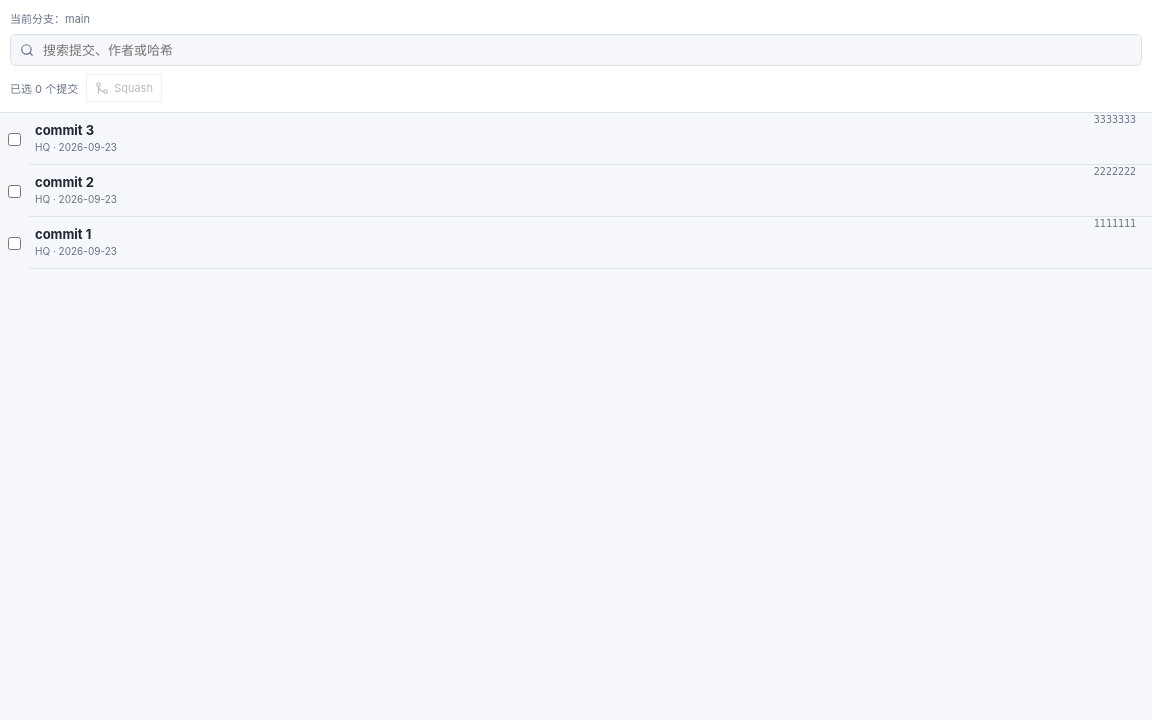
Test: history squash › keeps inputs on stale-head failure and opens the conflict workbench for a paused rebase
The width and height of the screenshot is (1152, 720).
Click the checkbox named "选择提交 3333333" at x=14, y=139, box [8,132,21,146]
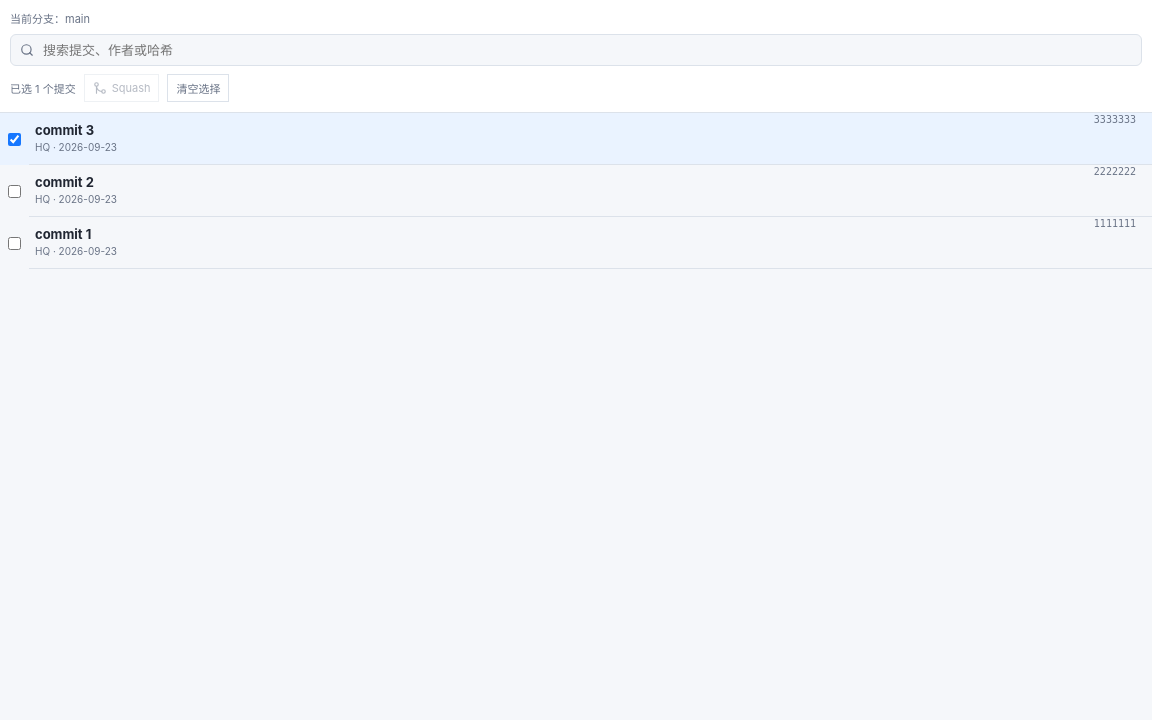
Click the checkbox named "选择提交 1111111" at x=14, y=243, box [8,236,21,250]
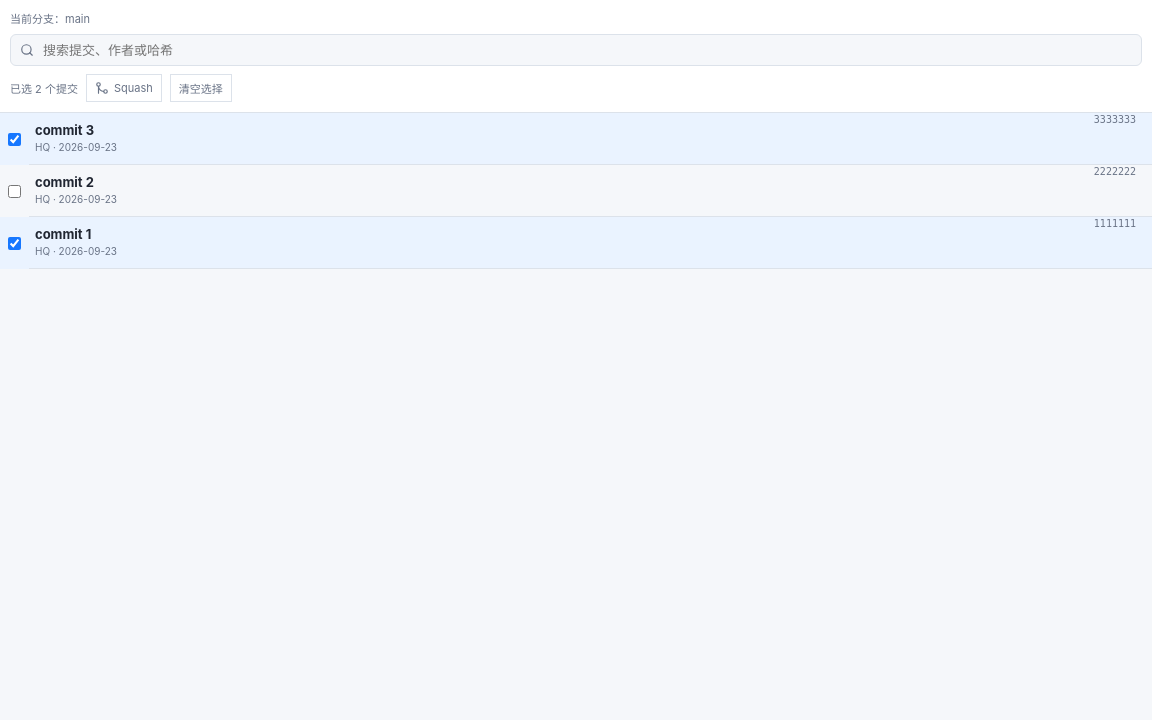
Click the button with aria-label "合并所选提交" at x=124, y=88, box [86,74,162,102]
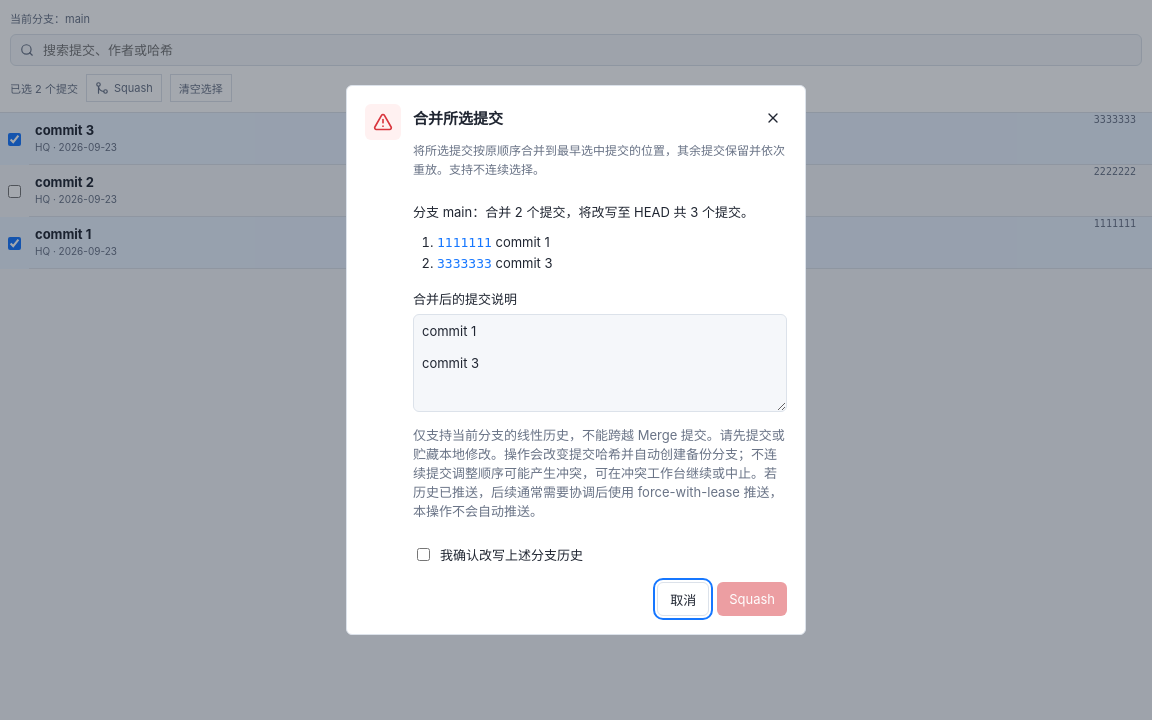
Click the checkbox labelled "我确认改写上述分支历史" at x=424, y=555, box [417,548,430,561]
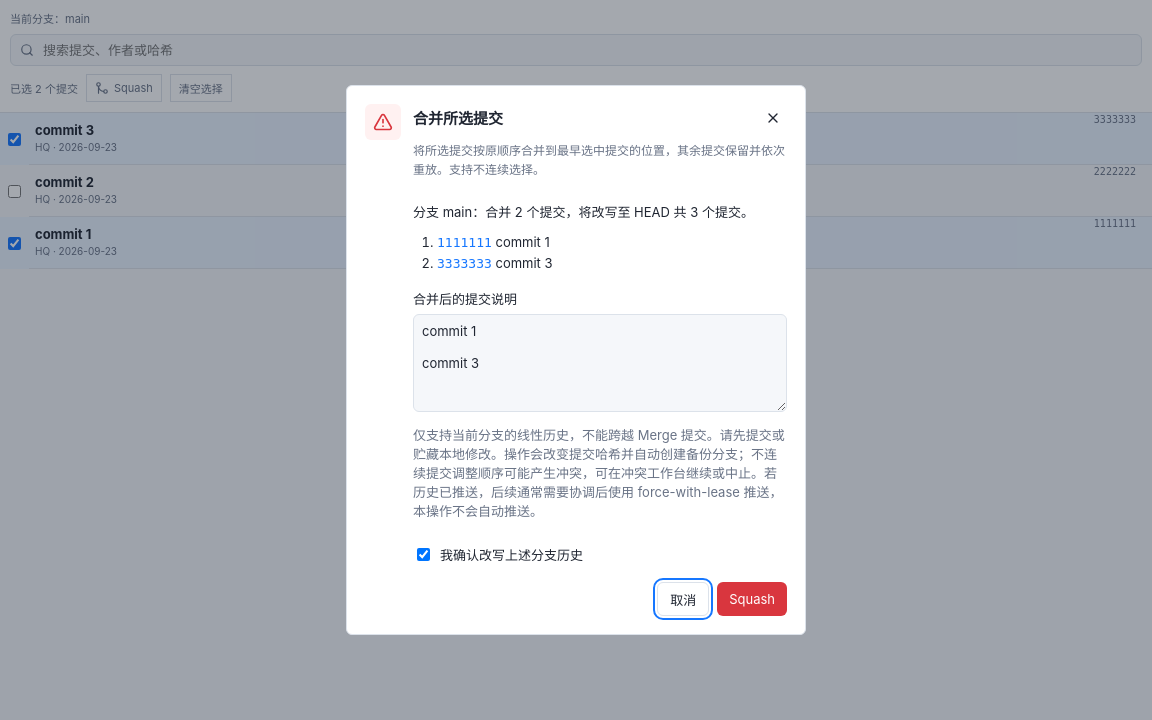
Click the button with aria-label "Squash" at x=752, y=599, box [717,582,787,616]
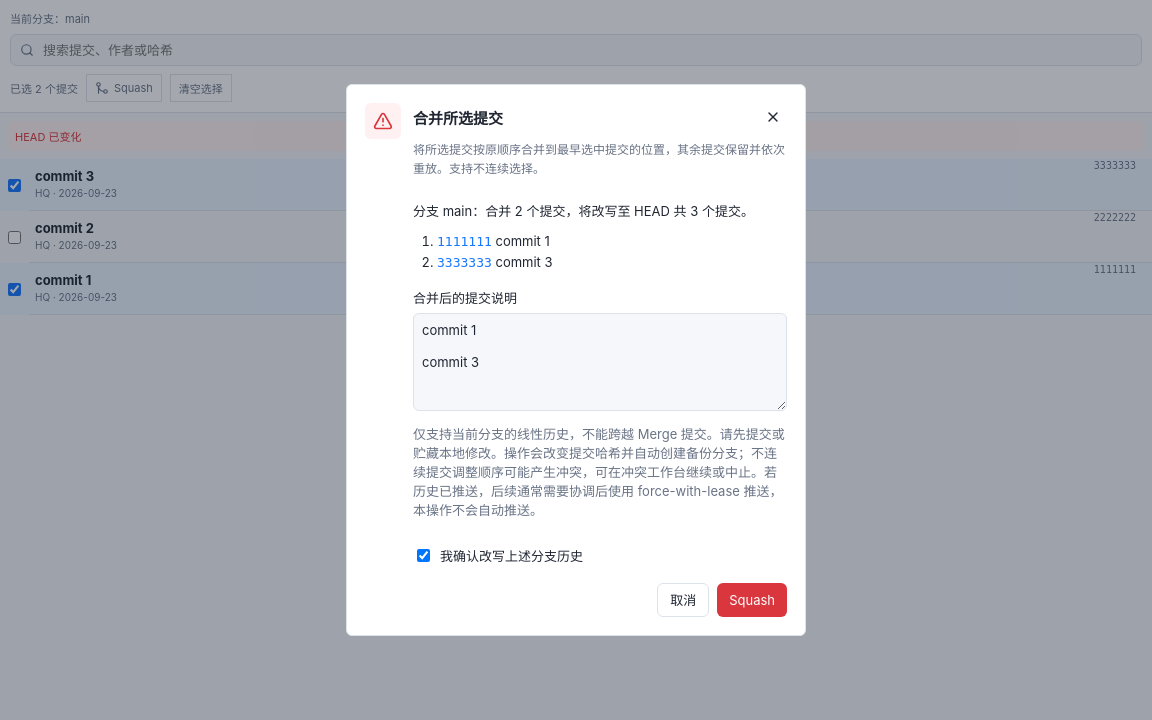
Click the button with aria-label "Squash" at x=752, y=600, box [717,583,787,617]
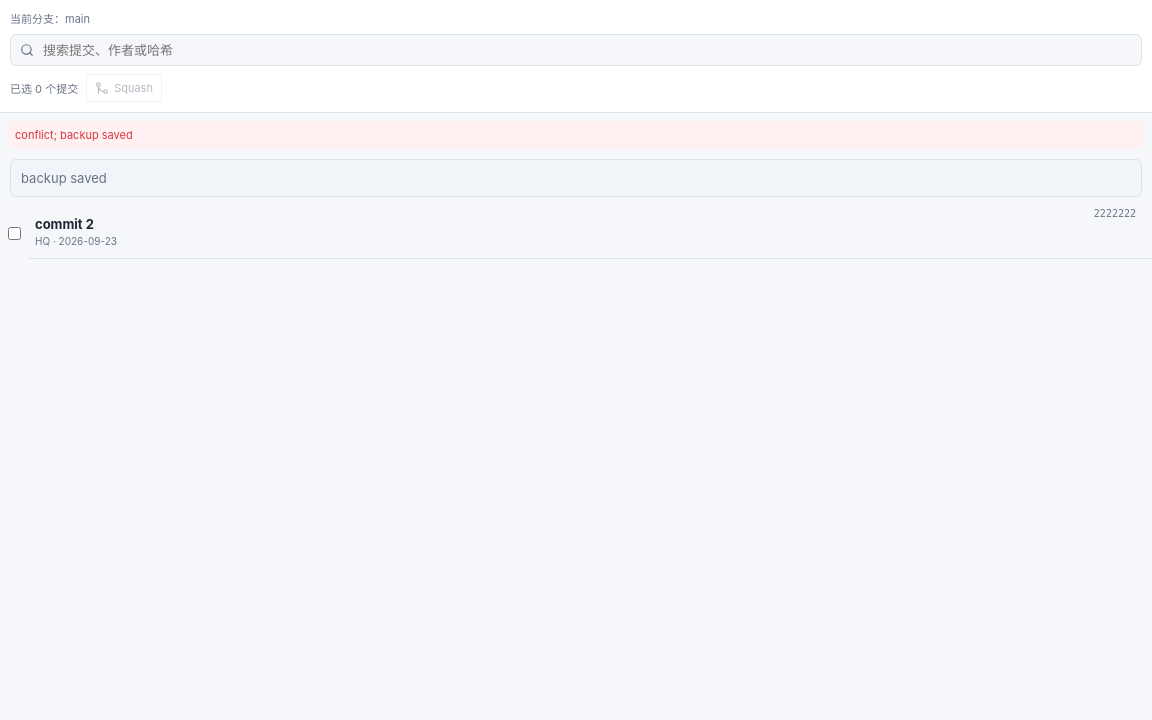
Check: the dialog is gone
